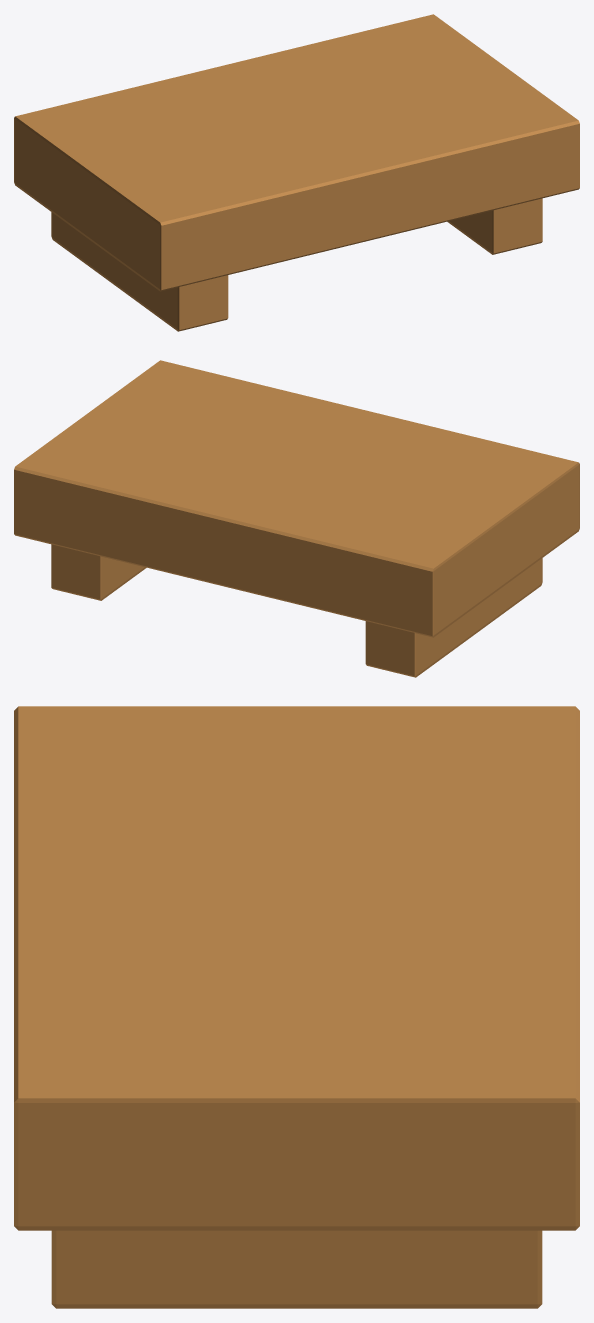
The model's file is table.fbx.
3 renders of one model, top to bottom at view 1: azimuth 30°, elevation 25°; view 2: azimuth 150°, elevation 25°; view 3: azimuth 270°, elevation 25°, orthographic. The views are drawn at different scales.
Visible parts, largest first — view 1: Cube.004; view 2: Cube.004; view 3: Cube.004.
Boxes of the visible parts, x1,y1,x2,y2 form: Cube.004: (14, 14, 579, 331); Cube.004: (14, 360, 579, 677); Cube.004: (14, 706, 579, 1308).
Bounding box in the file's own units: 67.99 × 19.08 × 41.44.
